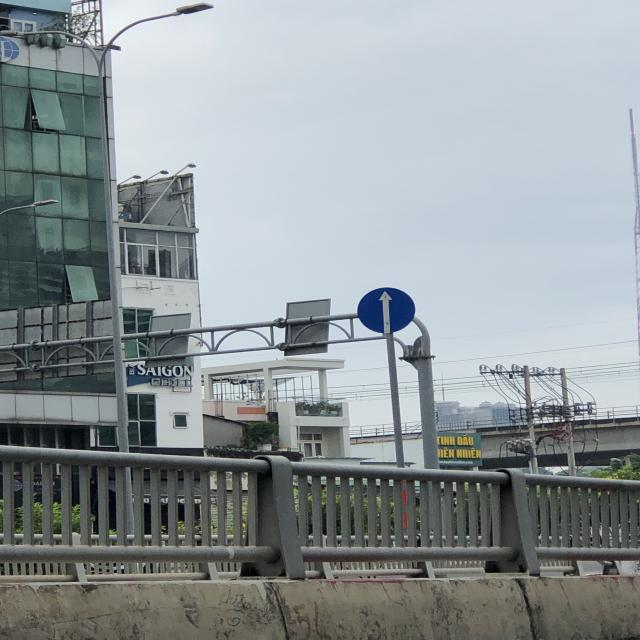Bien bao toc do toi thieu cho phep: (355, 286, 423, 336)
